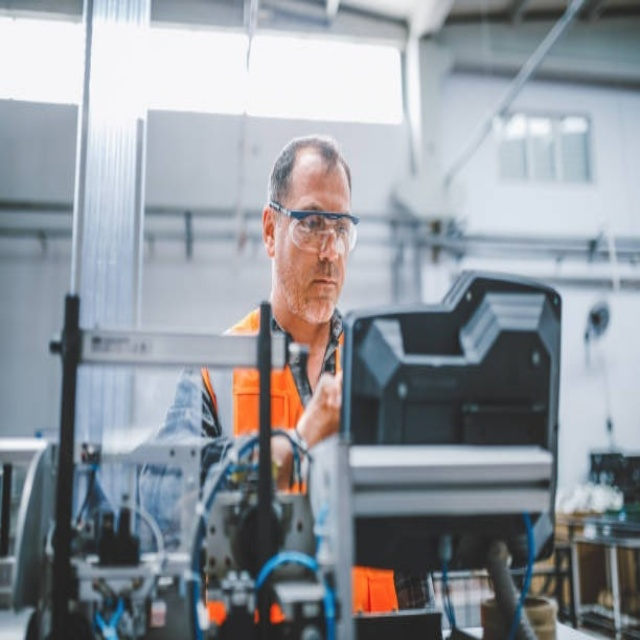Gafas: (271, 202, 360, 256)
Sin_mascara: (307, 267, 342, 315)
